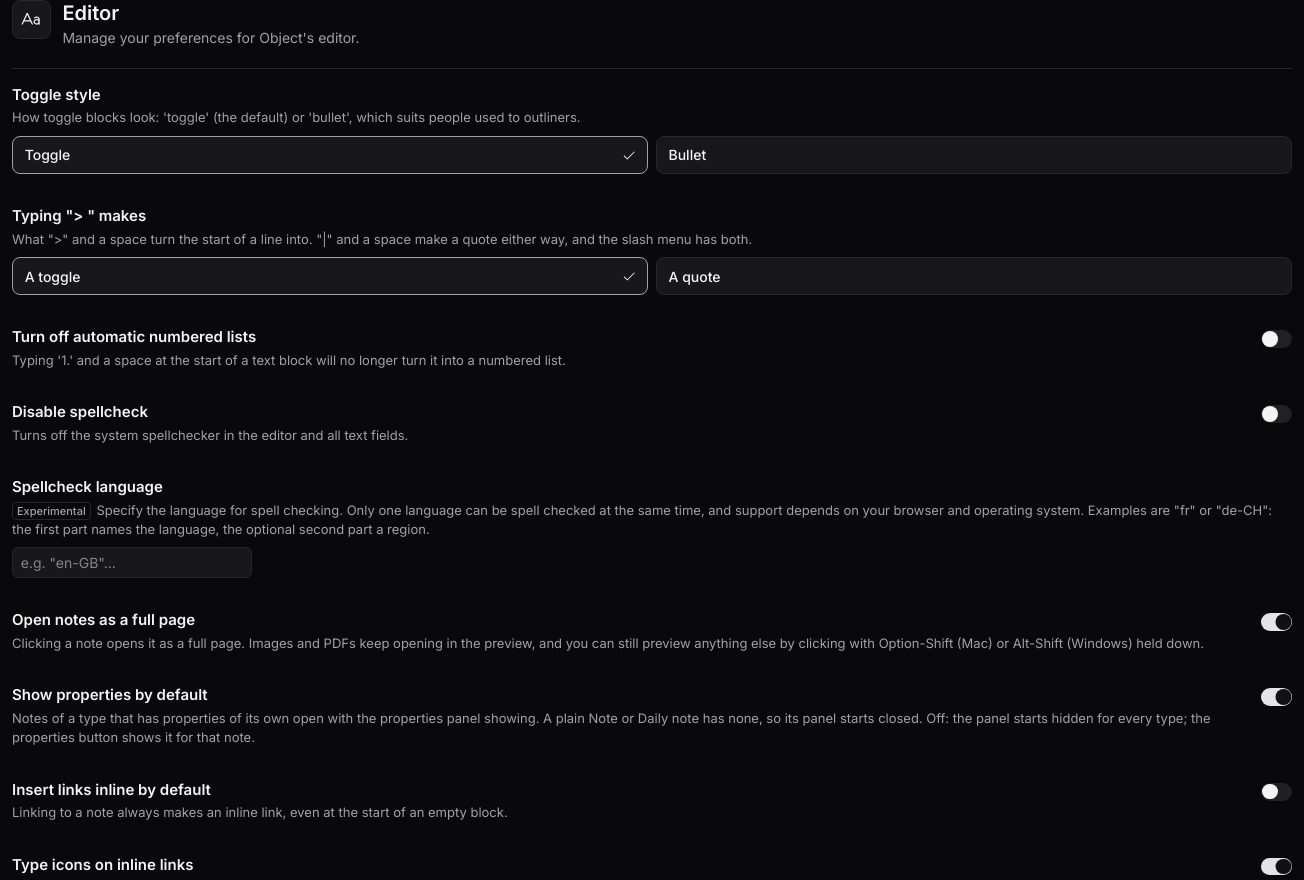
EditorSection › test editor controls patch device settings; show icons switch is inverted
expect the heading "Editor" is shown: met, box [62,1,119,25]
Click the radio button labelled "Bullet": (687, 155) [656,136,1292,174]
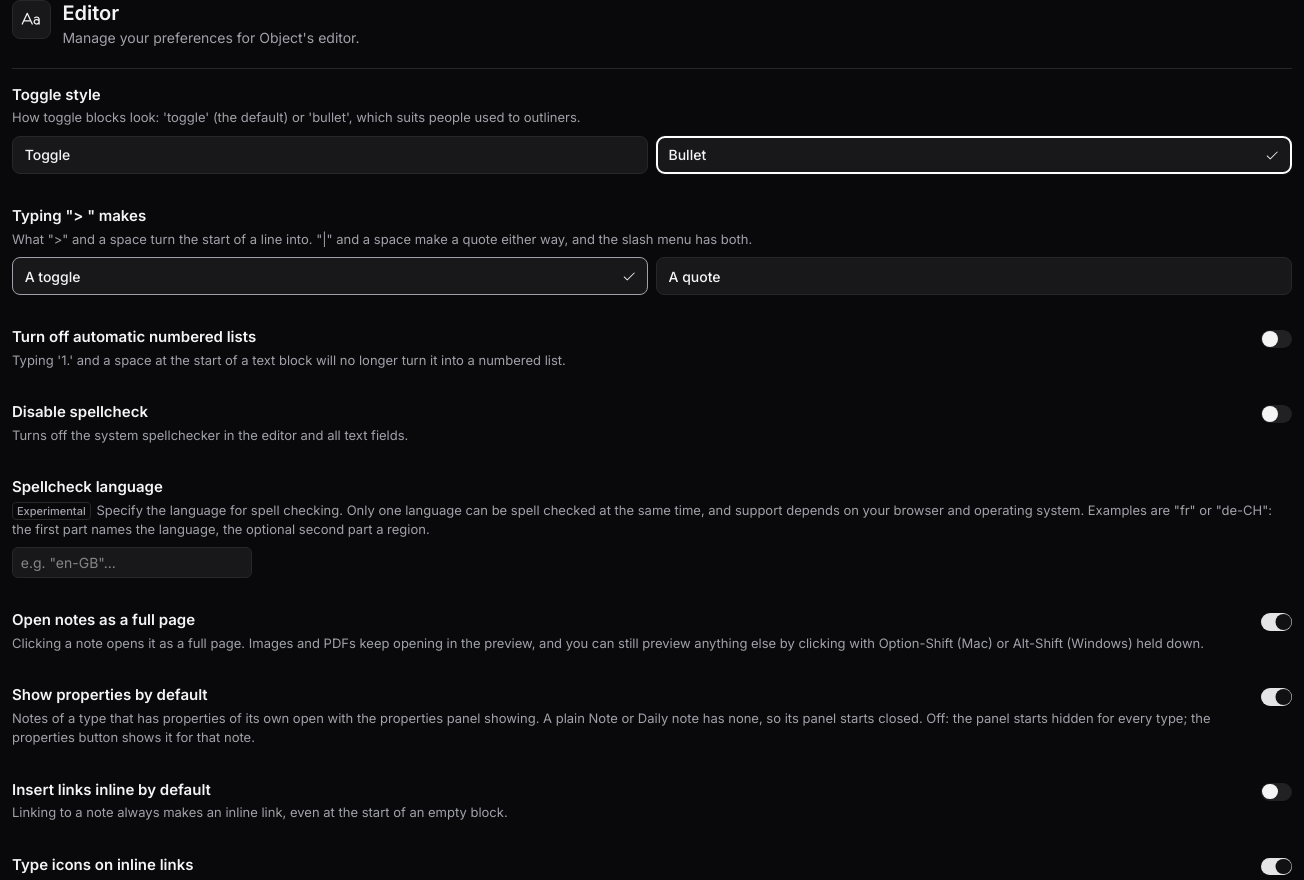
Click the switch named "Turn off automatic numbered lists": (1276, 339) [1261,330,1292,348]
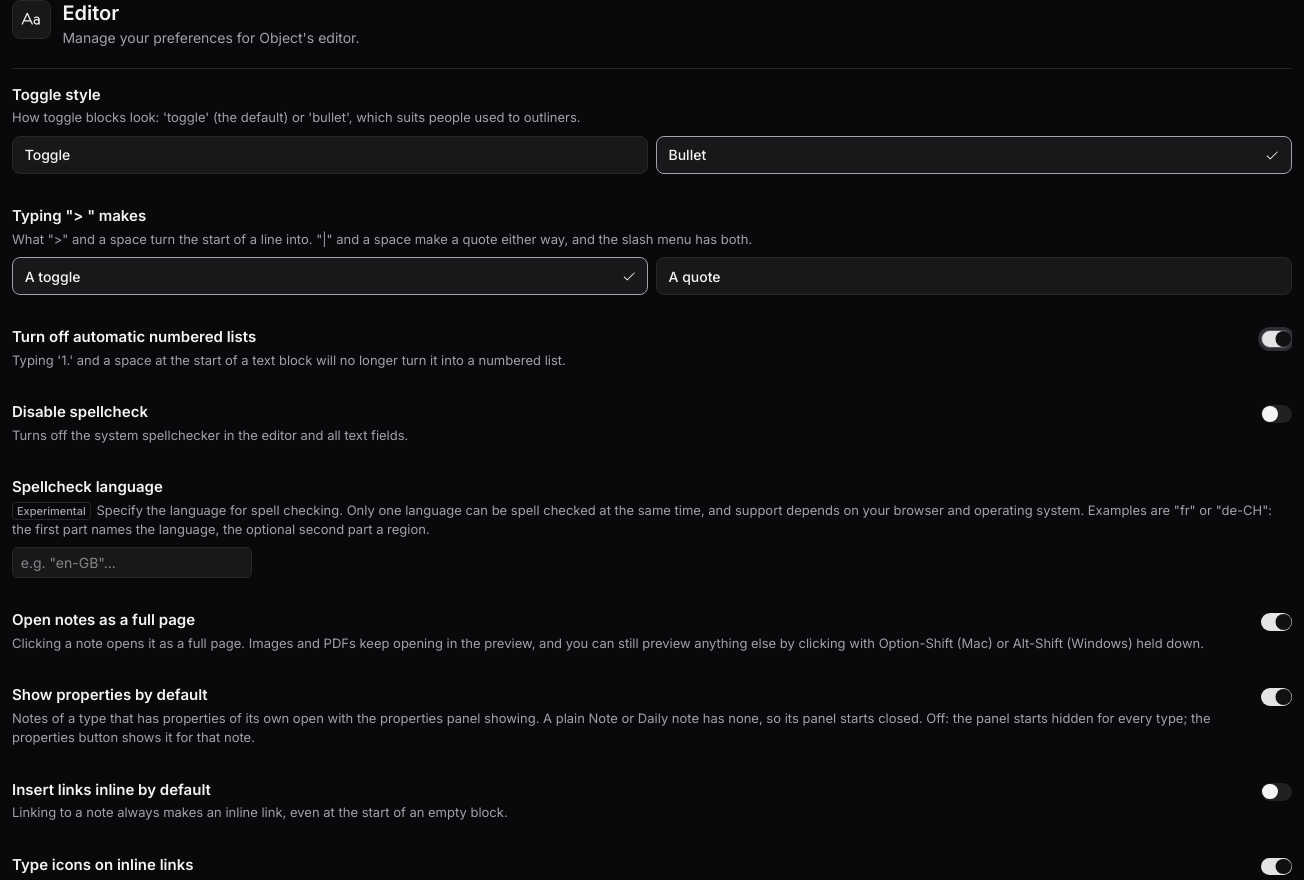
Click the switch named "Disable spellcheck": (1276, 414) [1261,405,1292,423]
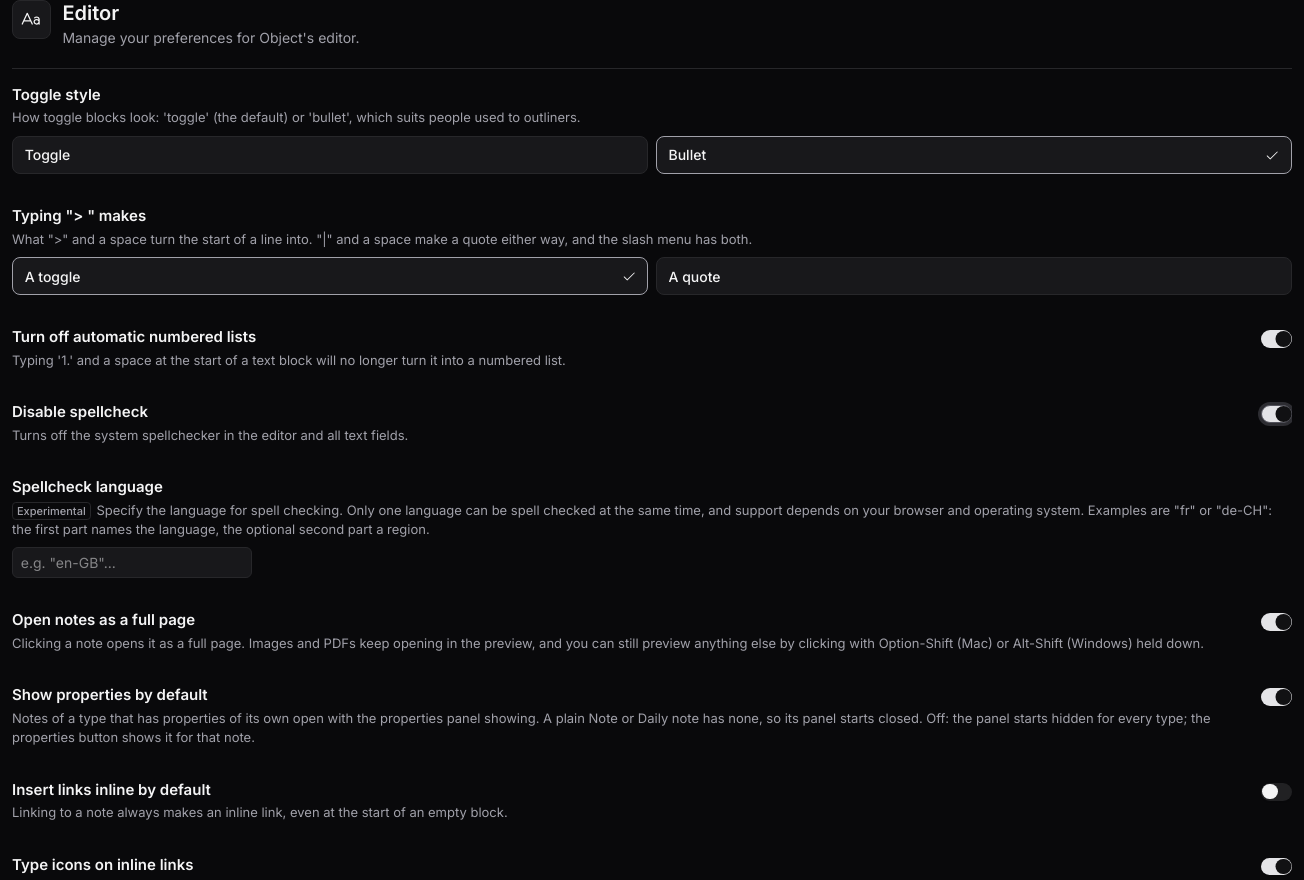
Click the switch named "Open notes as a full page": (1276, 622) [1261,613,1292,631]
(page scrolled)
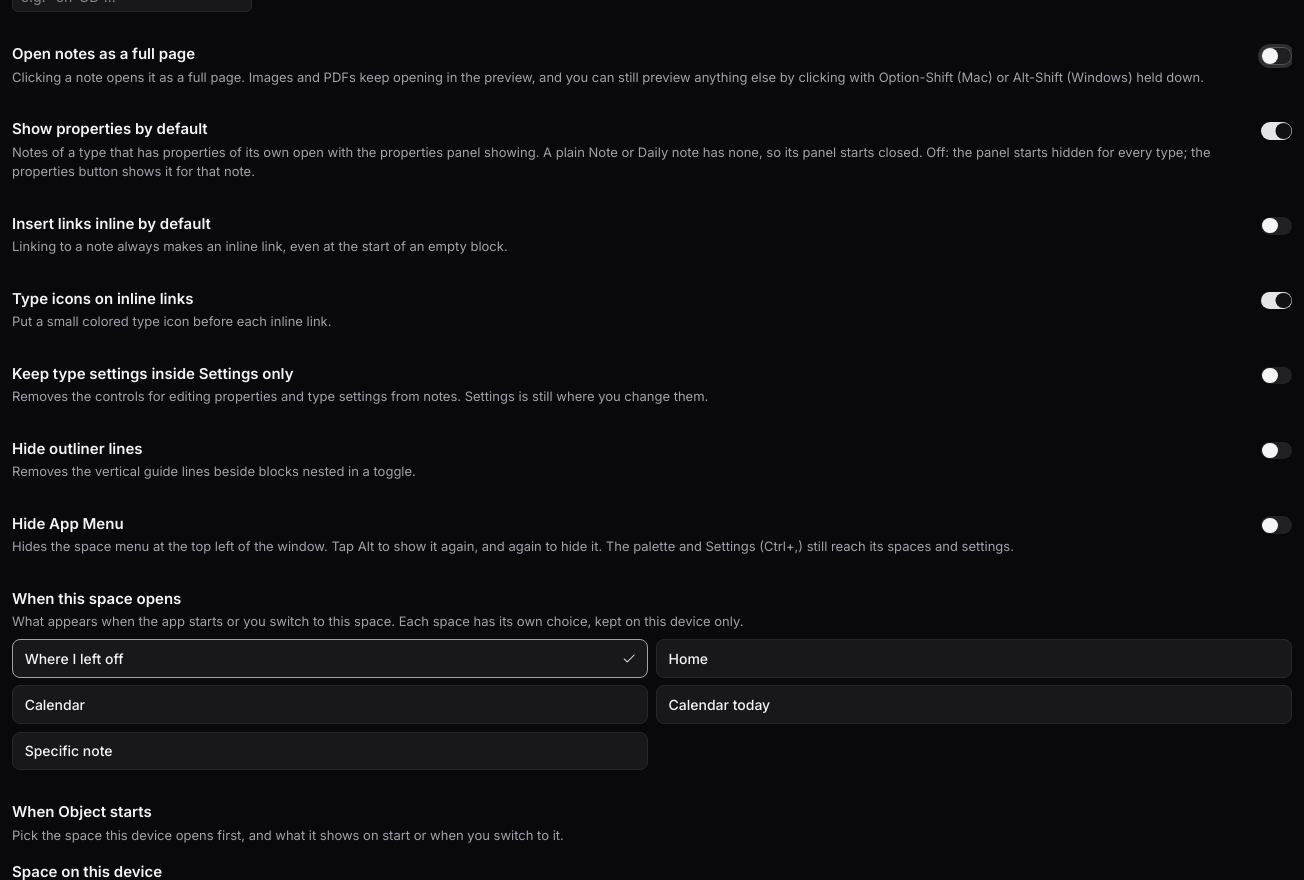
Click the switch named "Hide outliner lines": (1276, 450) [1261,442,1292,459]
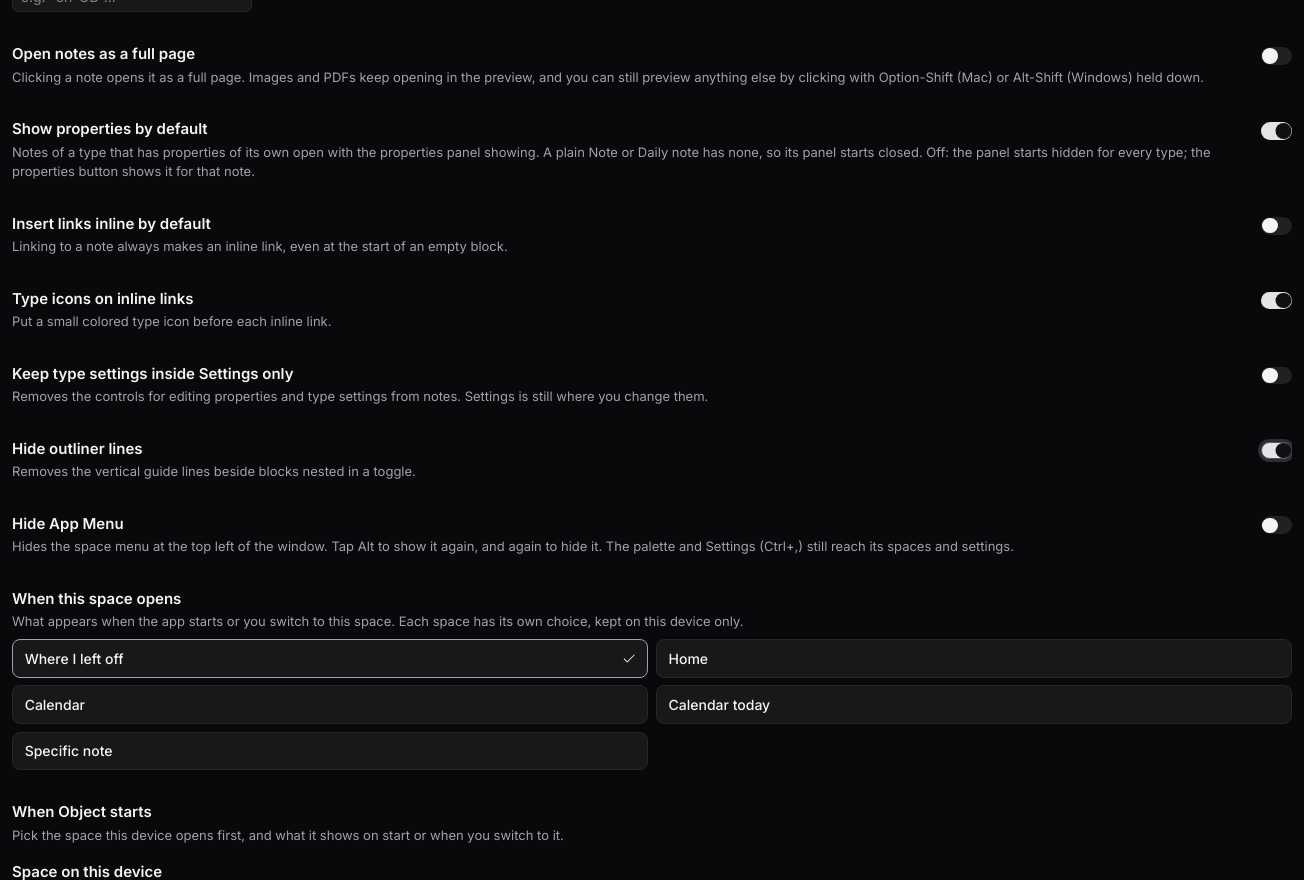
Click the switch named "Type icons on inline links": (1276, 300) [1261,292,1292,309]
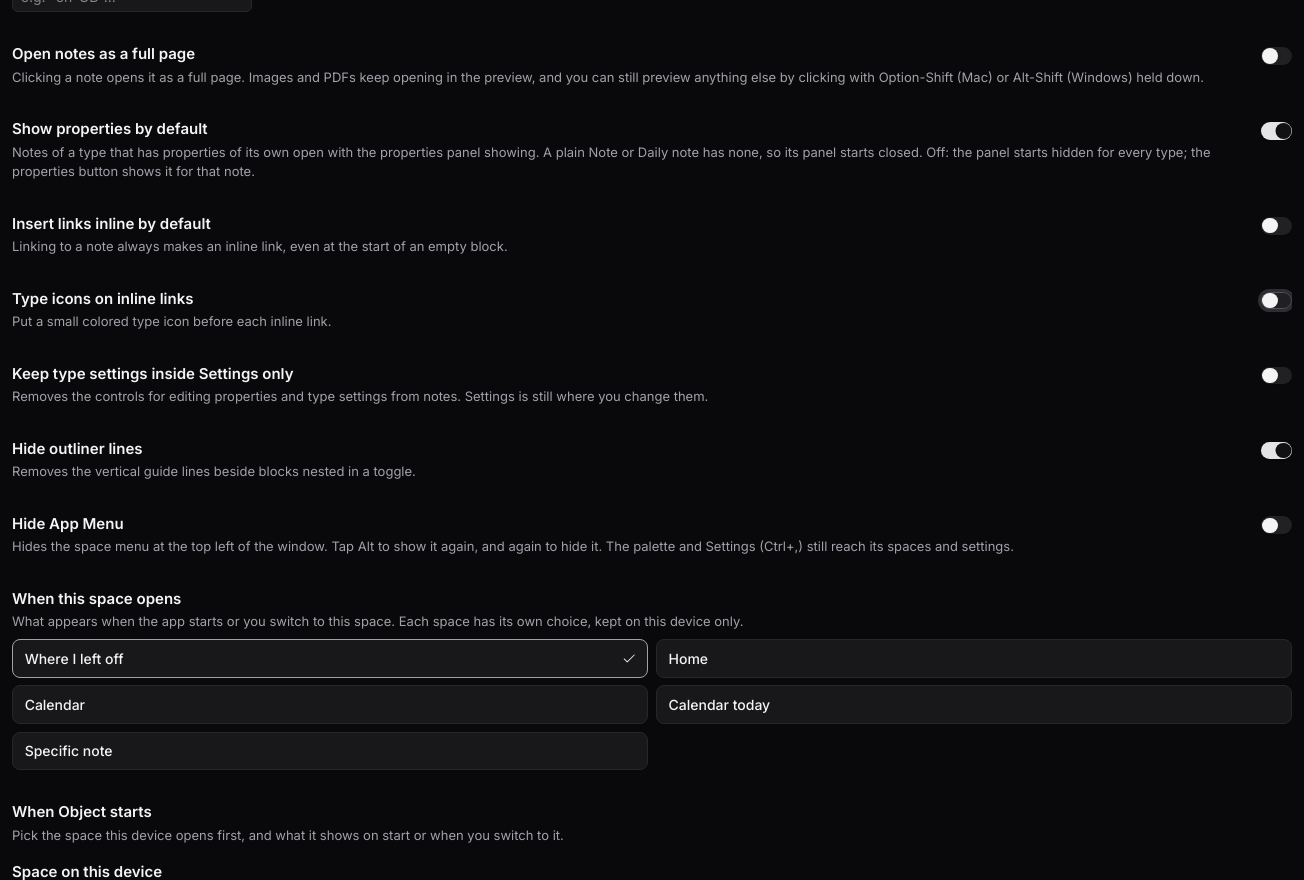
expect the switch named "Type icons on inline links" is not checked: met, box [1261,292,1292,309]
